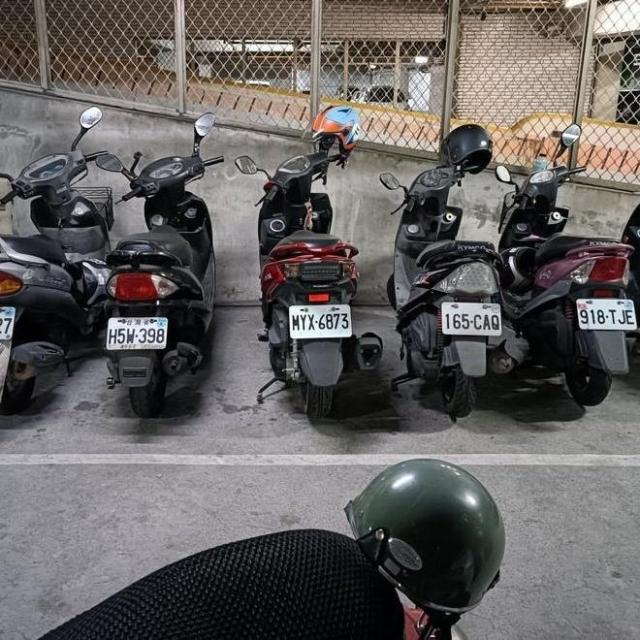W: (102, 308, 170, 354), (286, 299, 353, 341), (573, 291, 640, 333), (438, 297, 502, 337), (0, 297, 17, 343)
